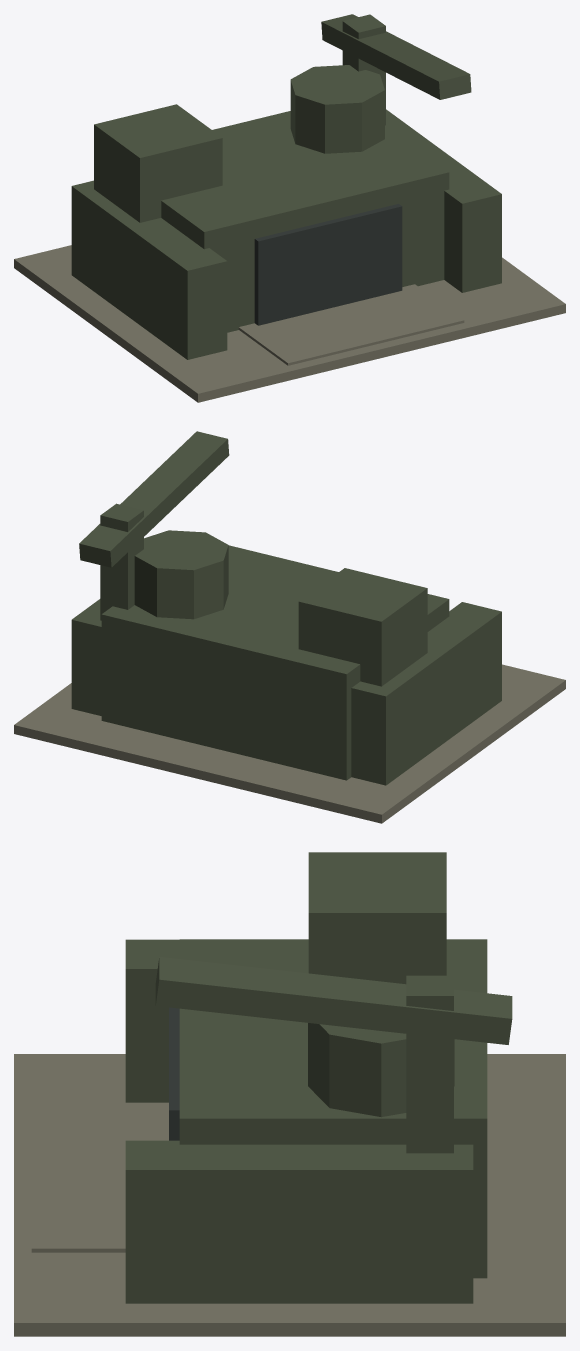
The model's file is Bastion_FabricationHub_LOD1.obj.
3 renders of one model, top to bottom at view 1: azimuth 30°, elevation 25°; view 2: azimuth 150°, elevation 25°; view 3: azimuth 270°, elevation 25°, orthographic. The views are drawn at different scales.
Parts seen in each view (by area): view 1: Bastion_FabricationHub_LOD1; view 2: Bastion_FabricationHub_LOD1; view 3: Bastion_FabricationHub_LOD1.
Part boxes in pixels (left/top/right/bottom): Bastion_FabricationHub_LOD1: left=14, top=14, right=565, bottom=402; Bastion_FabricationHub_LOD1: left=14, top=431, right=565, bottom=823; Bastion_FabricationHub_LOD1: left=14, top=852, right=565, bottom=1336.
Size of the model in its own units: 12 by 6.7 by 10.4.
Materials: 1 (1 with a texture image).
